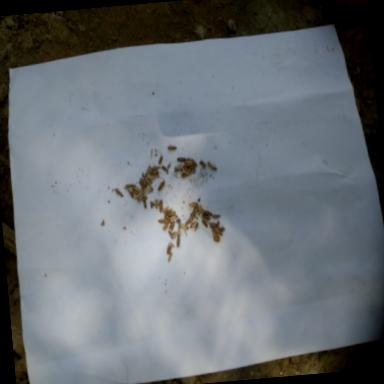pbw: (196, 202, 204, 216), (144, 166, 152, 178), (208, 161, 217, 171), (184, 217, 194, 226), (168, 221, 176, 232), (190, 207, 198, 218), (161, 222, 169, 232), (158, 182, 166, 192), (180, 168, 190, 176), (214, 226, 222, 236), (183, 166, 192, 174), (116, 189, 124, 198), (158, 200, 164, 212), (144, 176, 151, 186), (166, 244, 173, 254), (176, 236, 181, 249), (174, 164, 182, 172), (202, 219, 208, 229), (125, 184, 135, 190), (167, 252, 173, 262), (135, 191, 142, 199), (190, 222, 198, 229), (202, 214, 210, 221), (164, 216, 171, 224), (200, 160, 207, 168), (158, 156, 164, 165), (204, 210, 213, 216), (142, 179, 148, 188), (149, 170, 158, 176), (144, 188, 153, 194), (180, 224, 189, 230), (142, 195, 146, 208), (168, 230, 173, 240), (162, 207, 169, 214), (138, 194, 144, 202), (192, 159, 198, 167), (209, 222, 217, 228), (128, 190, 134, 198), (188, 202, 196, 208), (132, 186, 140, 192), (167, 212, 176, 217), (169, 215, 178, 220), (177, 158, 186, 163), (140, 179, 144, 190), (212, 214, 220, 219), (155, 200, 159, 210), (152, 166, 160, 171), (158, 219, 166, 224), (132, 189, 138, 195), (162, 166, 168, 172), (173, 232, 181, 236), (148, 176, 156, 180), (184, 160, 192, 164), (150, 201, 154, 209), (168, 146, 176, 150), (165, 210, 171, 215)
